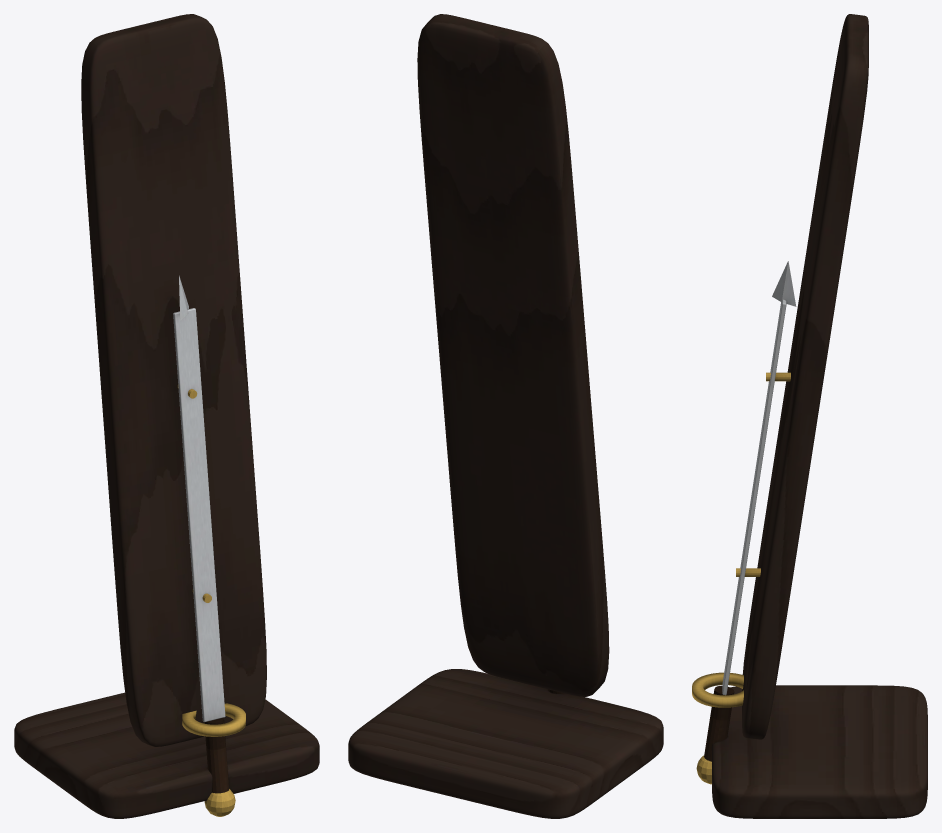
File: arming-sword.glb
3 views of the same model, side by side, from view 1: azimuth 30°, elevation 25°; view 2: azimuth 150°, elevation 25°; view 3: azimuth 270°, elevation 25° (orthographic). The views are drawn at different scales.
Visible parts, largest first — view 1: wood_z, wood_x, blade_steel, gold_trim, grip_leather; view 2: wood_z, wood_x; view 3: wood_z, wood_x, blade_steel, gold_trim, grip_leather.
Part boxes in pixels (x1,y1,x2,y2): wood_z: (81,14,266,746); wood_x: (14,692,319,818); blade_steel: (173,275,225,721); gold_trim: (177,384,245,816); grip_leather: (204,718,228,793); wood_z: (417,14,609,696); wood_x: (348,669,663,818); wood_z: (742,14,868,739); wood_x: (712,685,927,818); blade_steel: (722,261,796,695); gold_trim: (692,372,790,784); grip_leather: (704,685,734,761).
Size of the model in its own units: 0.36 by 1.14 by 0.3275.
5 materials, 5 textured.
